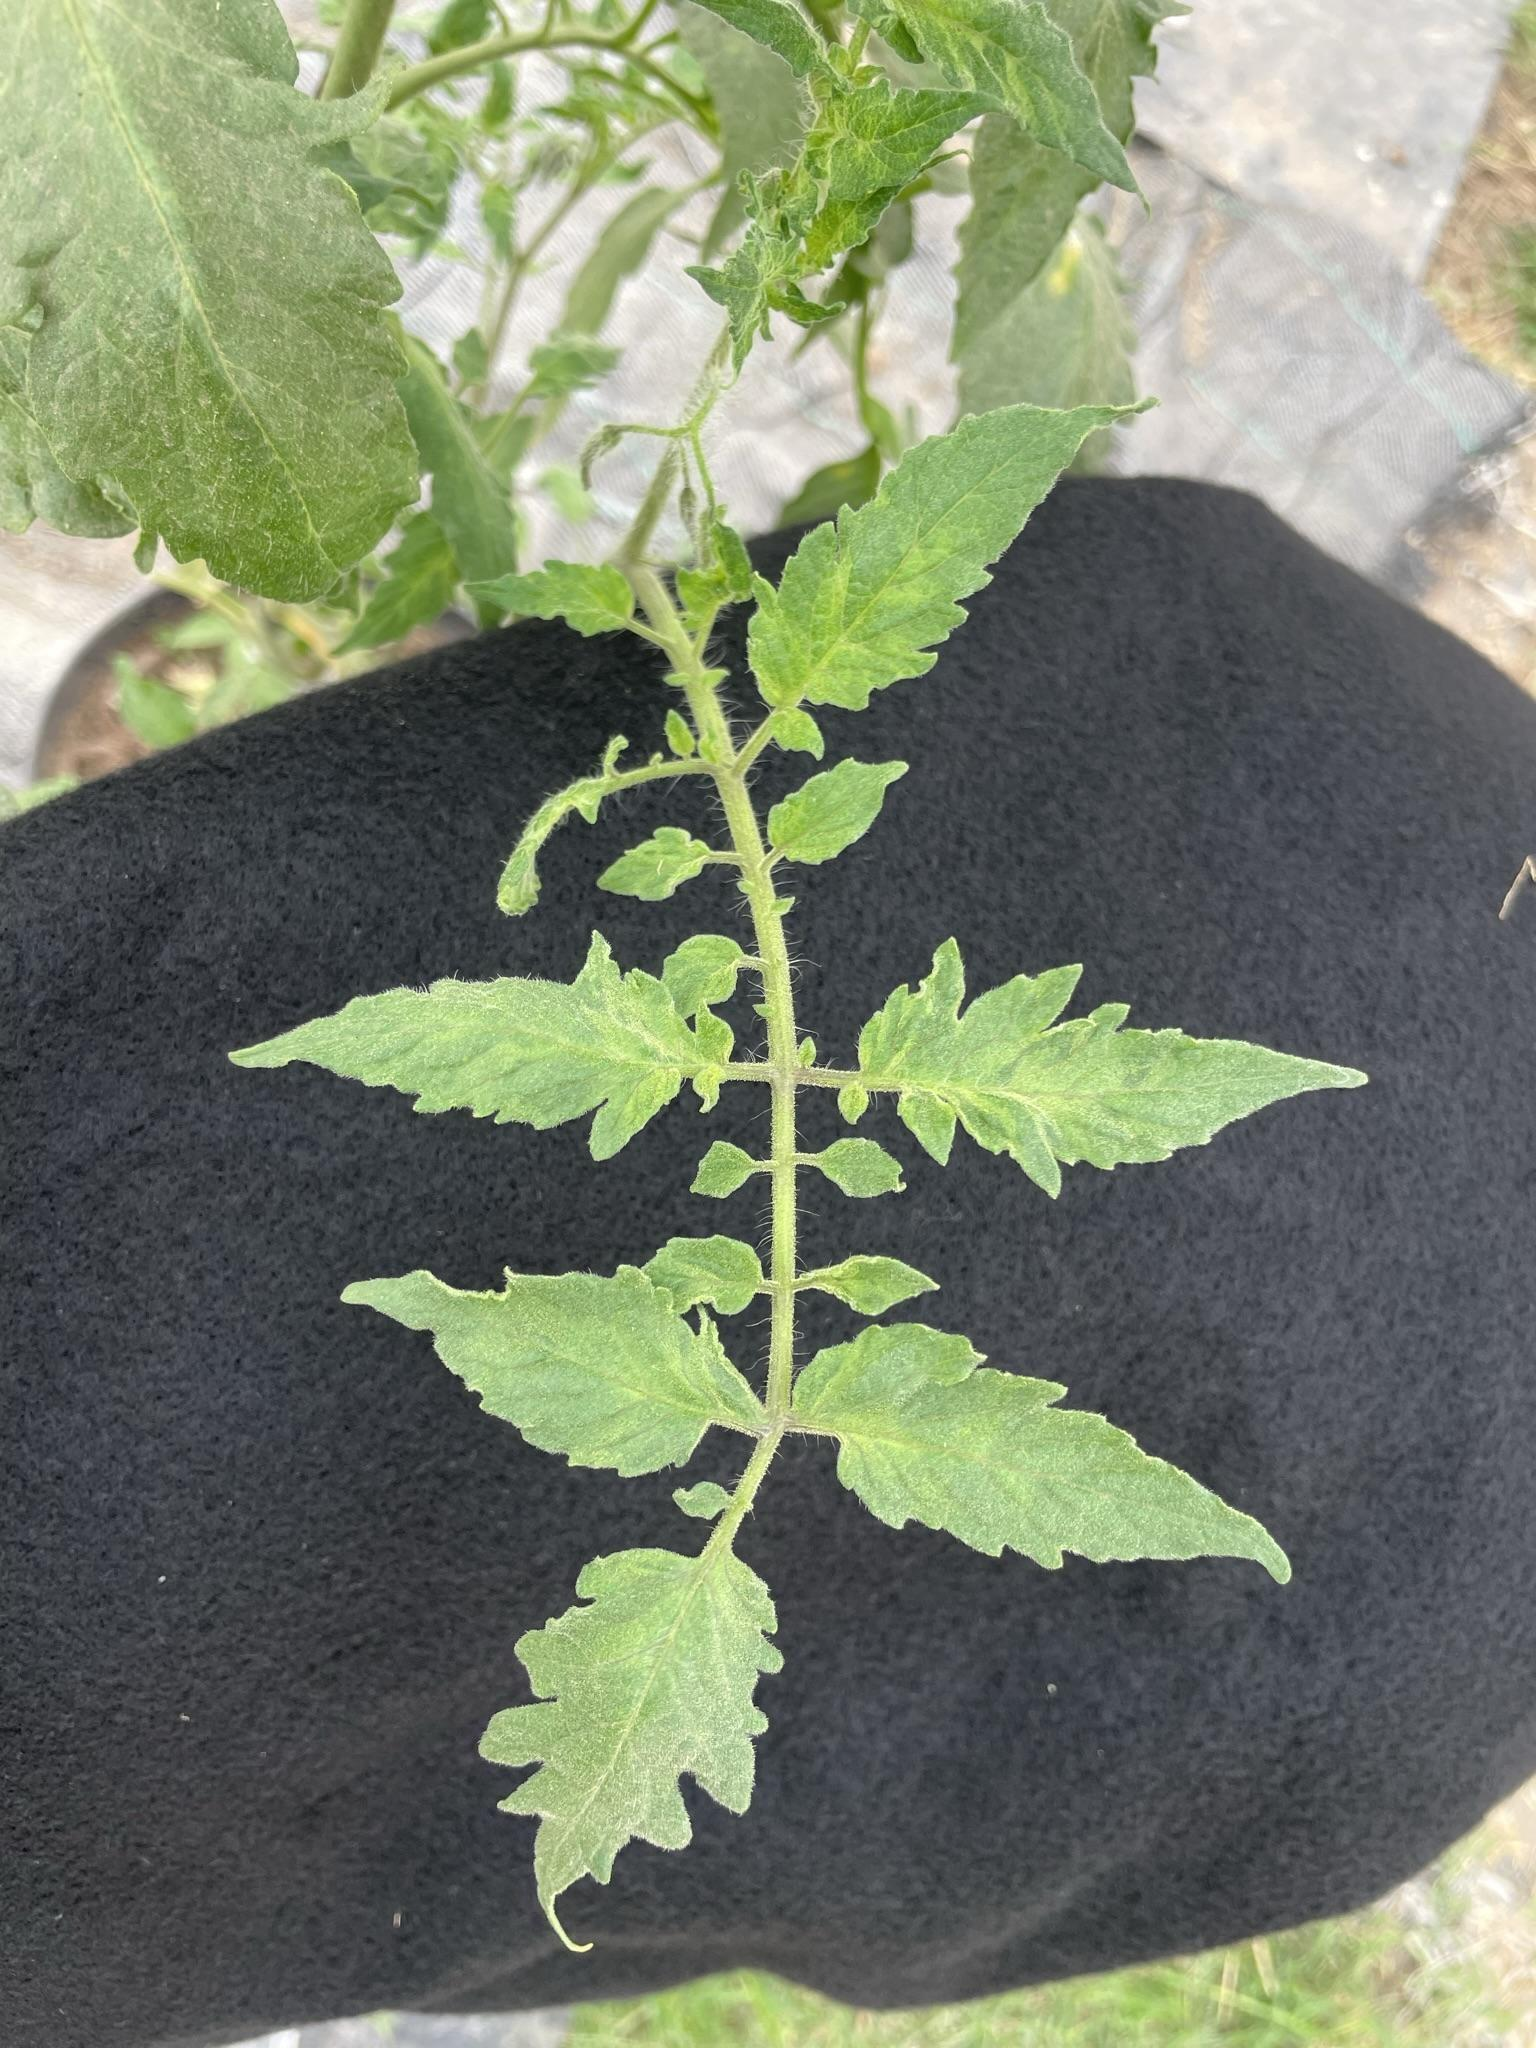Hoja rugoso: (3, 0, 416, 600), (860, 940, 1363, 1197), (795, 1324, 1292, 1584), (481, 1548, 779, 1948), (232, 935, 733, 1159), (749, 405, 1117, 708), (344, 1264, 765, 1476), (768, 760, 908, 864), (476, 560, 636, 635), (644, 1235, 765, 1316), (800, 1256, 936, 1316), (600, 827, 712, 900)
Pedunculo rugoso: (708, 724, 816, 1534)
